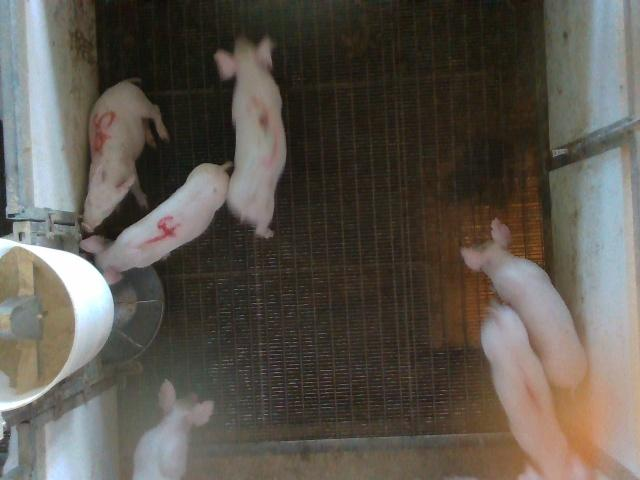pig-1: (481, 302, 590, 479)
pig-3: (214, 36, 286, 238)
pig-4: (80, 162, 230, 283)
pig-5: (81, 78, 169, 232)
